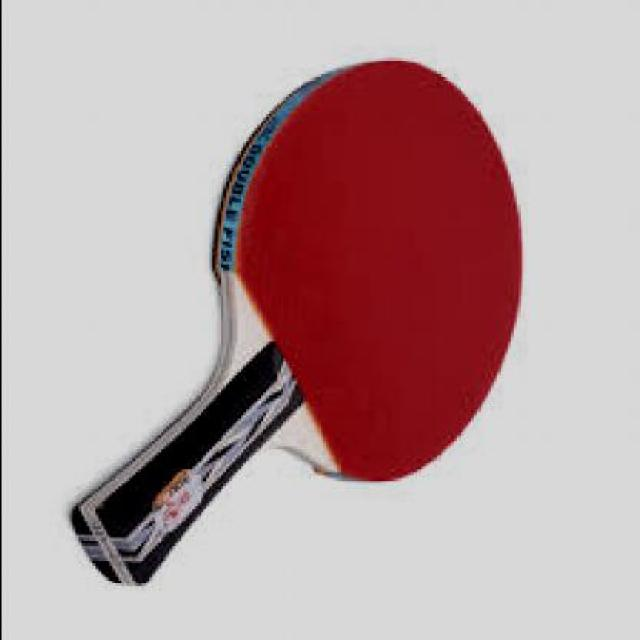table_tennis_racket: (212, 53, 526, 487)
